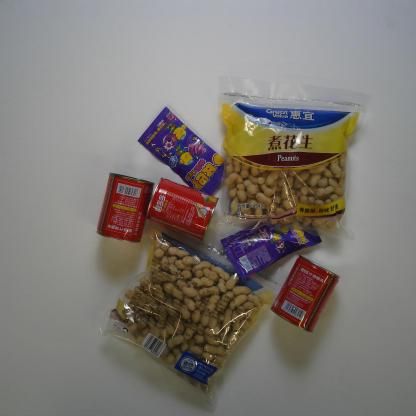Candy: (137, 105, 231, 200), (220, 210, 323, 283)
Canned Food: (269, 254, 341, 334), (146, 176, 220, 242), (96, 171, 155, 244)
Dried Food: (96, 222, 286, 398), (211, 76, 374, 252)
